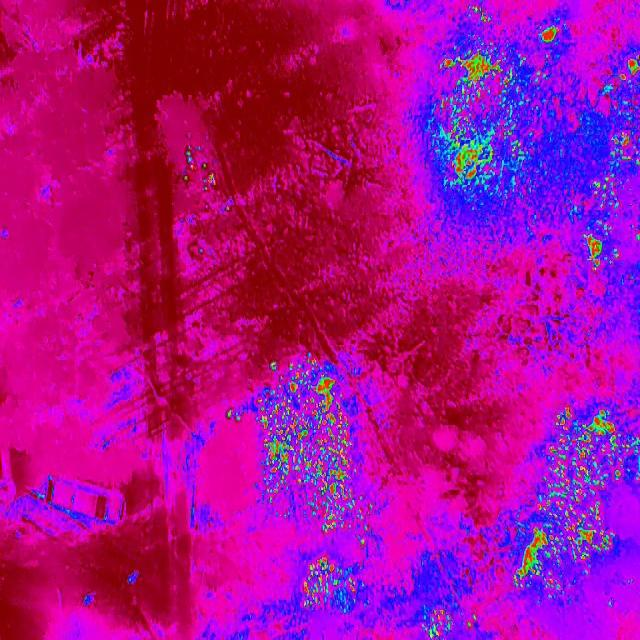fire: (428, 22, 573, 200), (260, 360, 378, 534), (549, 400, 640, 572), (513, 507, 601, 597), (299, 558, 382, 620), (602, 46, 640, 179), (580, 178, 626, 266), (416, 605, 484, 640)
